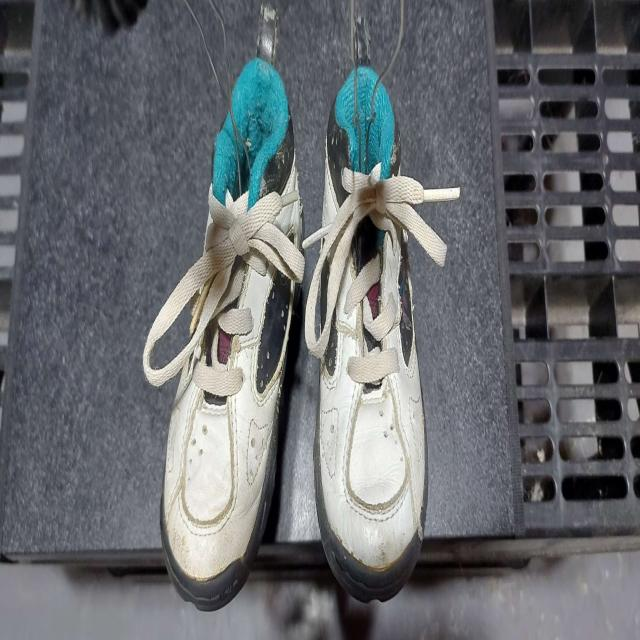shoes: (159, 54, 305, 614), (312, 60, 428, 602)
